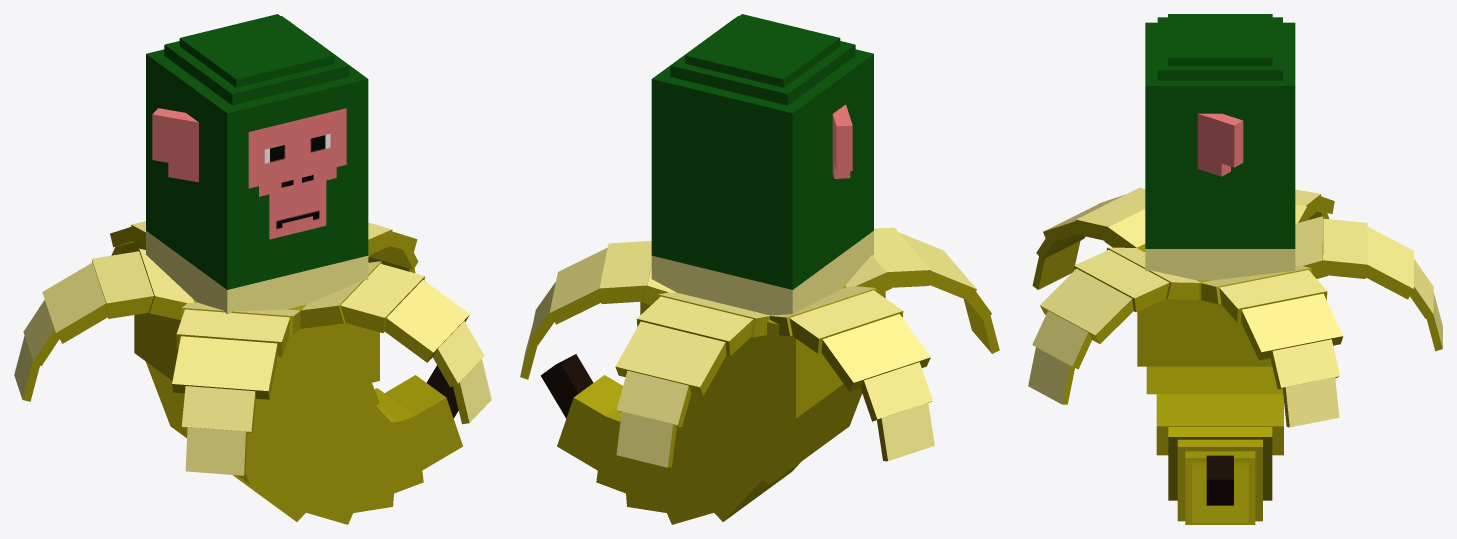
File: chimpanzini bananini.obj
3 views of the same model, side by side, from view 1: azimuth 30°, elevation 25°; view 2: azimuth 150°, elevation 25°; view 3: azimuth 270°, elevation 25° (orthographic). The views are drawn at different scales.
Visible parts, largest first — view 1: Cube0011, Cube0151, Cube0021, Cube0031; view 2: Cube0021, Cube0011, Cube0151, Cube0031; view 3: Cube0011, Cube0151, Cube0021, Cube0031.
Boxes of the visible parts, bbox=[...] form: Cube0011: bbox=[14, 108, 491, 475]; Cube0151: bbox=[22, 225, 469, 524]; Cube0021: bbox=[146, 14, 368, 289]; Cube0031: bbox=[426, 365, 458, 418]; Cube0021: bbox=[651, 14, 873, 289]; Cube0011: bbox=[520, 104, 976, 467]; Cube0151: bbox=[520, 265, 999, 524]; Cube0031: bbox=[540, 354, 593, 418]; Cube0011: bbox=[1028, 113, 1442, 427]; Cube0151: bbox=[1032, 194, 1442, 524]; Cube0021: bbox=[1145, 14, 1295, 248]; Cube0031: bbox=[1206, 455, 1233, 505].
Size of the model in its own units: 6.96 by 7.52 by 6.48.
4 materials, 1 textured.
